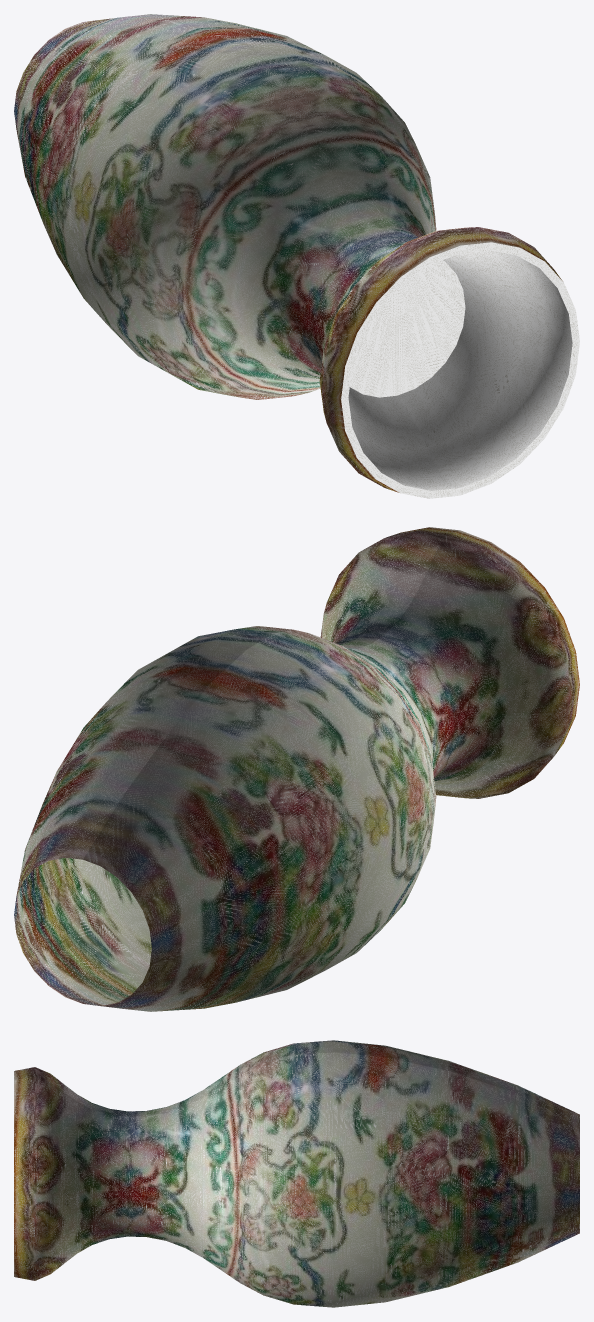
The model's file is model_scale.obj.
3 renders of one model, top to bottom at view 1: azimuth 30°, elevation 25°; view 2: azimuth 150°, elevation 25°; view 3: azimuth 270°, elevation 25°, orthographic. The views are drawn at different scales.
Parts seen in each view (by area): view 1: mesh2_mesh2-geometry, mesh1_mesh1-geometry; view 2: mesh2_mesh2-geometry, mesh1_mesh1-geometry; view 3: mesh1_mesh1-geometry, mesh2_mesh2-geometry.
Part boxes in pixels (left/top/right/bottom): mesh2_mesh2-geometry: left=14, top=17, right=460, bottom=498; mesh1_mesh1-geometry: left=125, top=14, right=579, bottom=495; mesh2_mesh2-geometry: left=83, top=530, right=579, bottom=1011; mesh1_mesh1-geometry: left=14, top=527, right=459, bottom=1005; mesh1_mesh1-geometry: left=14, top=1052, right=579, bottom=1307; mesh2_mesh2-geometry: left=14, top=1040, right=579, bottom=1119.
Size of the model in its own units: 0.0661 by 0.0661 by 0.1395.
Materials: 3 (1 with a texture image).
